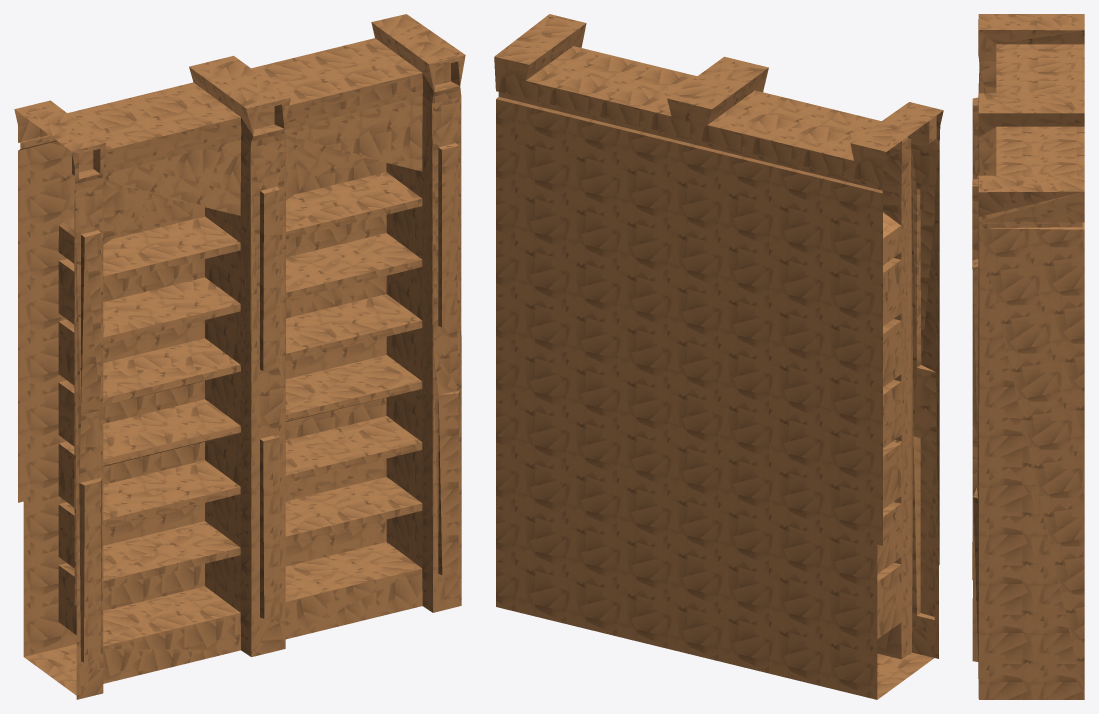
File: book_shelf.glb
3 renders of one model, left to right at view 1: azimuth 30°, elevation 25°; view 2: azimuth 150°, elevation 25°; view 3: azimuth 270°, elevation 25°, orthographic. The views are drawn at different scales.
Visible parts, largest first — view 1: Wood_012; view 2: Wood_012; view 3: Wood_012.
Boxes of the visible parts, x1,y1,x2,y2 form: Wood_012: [14, 14, 465, 699]; Wood_012: [494, 14, 943, 699]; Wood_012: [972, 14, 1084, 699].
Bounding box in the file's own units: 1.22 × 1.62 × 0.3243.
1 material, 1 textured.
